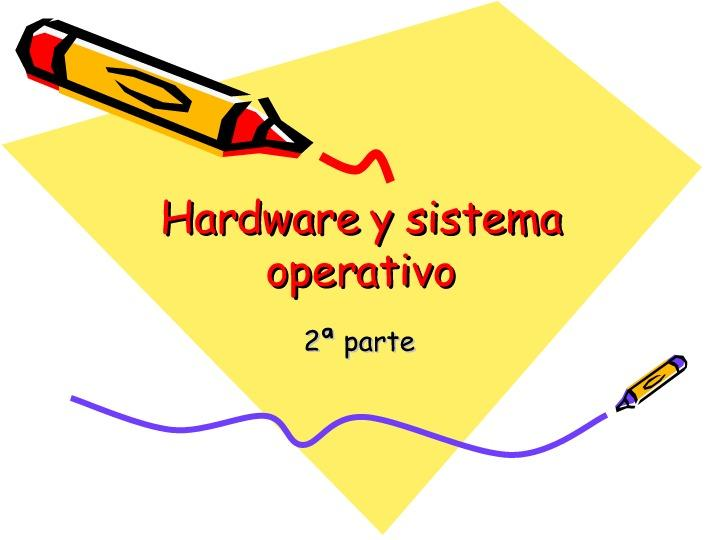title: (157, 191, 585, 370)
